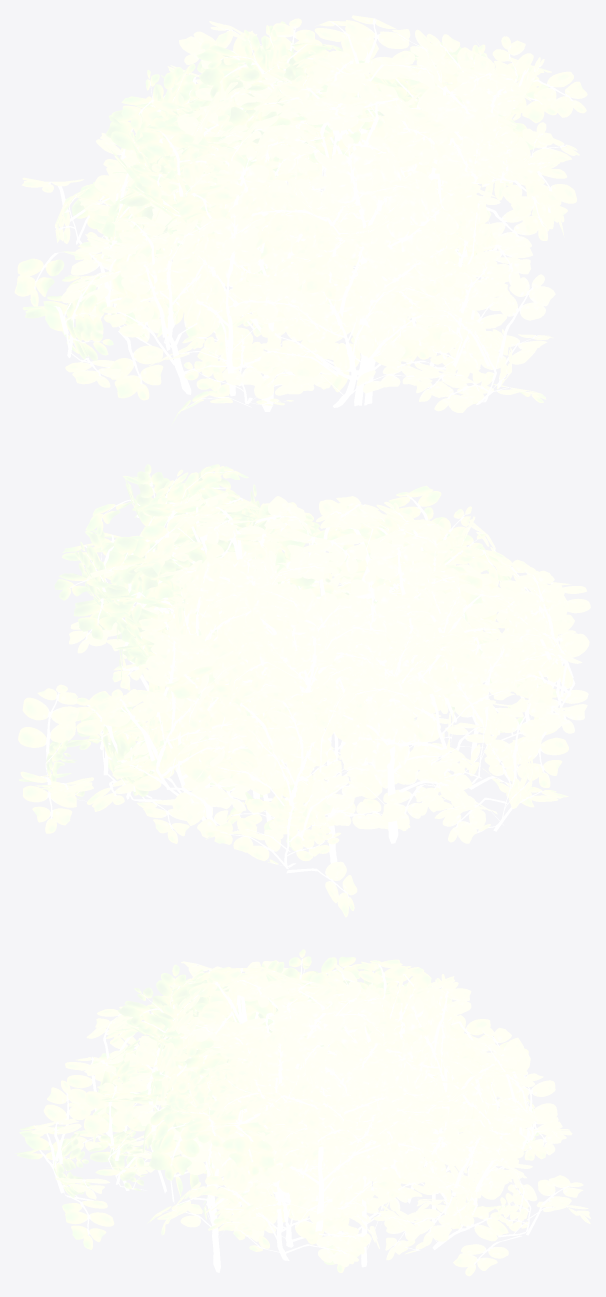
3 renders of one model, top to bottom at view 1: azimuth 30°, elevation 25°; view 2: azimuth 150°, elevation 25°; view 3: azimuth 270°, elevation 25°, orthographic. The views are drawn at different scales.
Visible parts, largest first — view 1: SM_BM_Medium_Bush_Meadows_A_LOD0; view 2: SM_BM_Medium_Bush_Meadows_A_LOD0; view 3: SM_BM_Medium_Bush_Meadows_A_LOD0.
Boxes of the visible parts, x1=… form: SM_BM_Medium_Bush_Meadows_A_LOD0: x1=14, y1=15, x2=587, y2=425; SM_BM_Medium_Bush_Meadows_A_LOD0: x1=18, y1=464, x2=590, y2=917; SM_BM_Medium_Bush_Meadows_A_LOD0: x1=15, y1=949, x2=590, y2=1276.
Size of the model in its own units: 1.74 by 1.08 by 2.03.
1 material, 1 textured.
